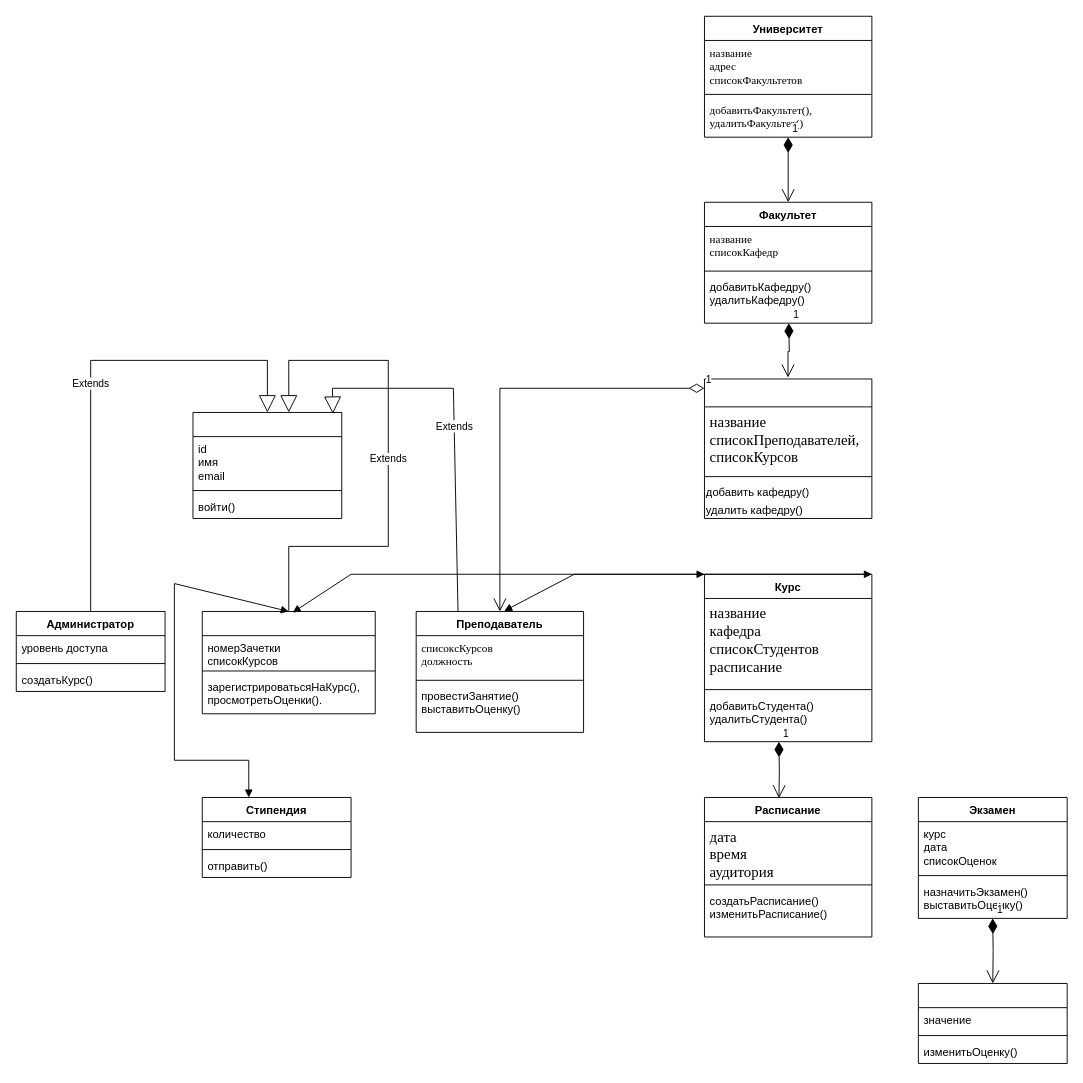
This 1083x1083 diagram has some shape labels left out. The box of each missing label's shape, as (x1, y1, x2, y2) in pixels:
Кафедра: (704, 378, 872, 518)
Оценка: (917, 983, 1067, 1063)
Пользователь: (192, 412, 342, 518)
Студент: (201, 611, 375, 714)
